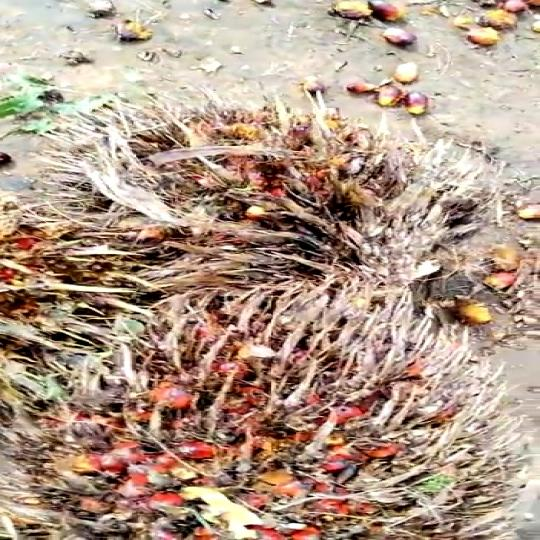terlalu masak: (0, 272, 537, 540), (65, 92, 487, 254)
